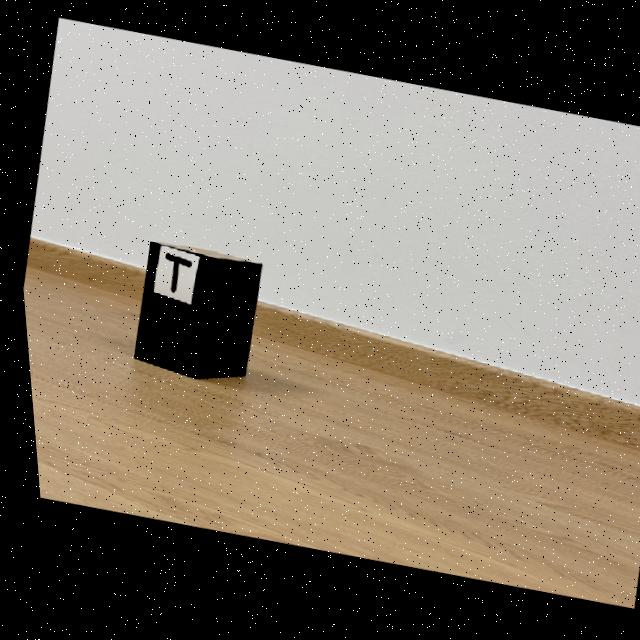T: (161, 254, 187, 293)
